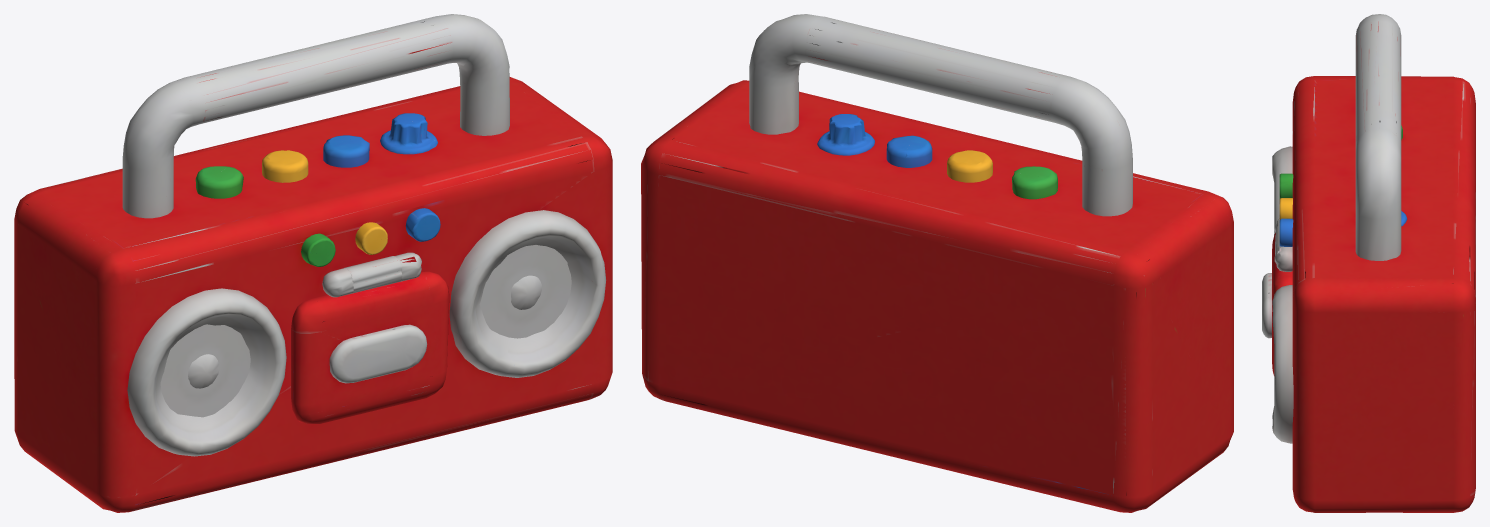
File: dance_boombox.glb
3 views of the same model, side by side, from view 1: azimuth 30°, elevation 25°; view 2: azimuth 150°, elevation 25°; view 3: azimuth 270°, elevation 25° (orthographic). The views are drawn at different scales.
Visible parts, largest first — view 1: geometry_0; view 2: geometry_0; view 3: geometry_0.
Part boxes in pixels (x1,y1,x2,y2): geometry_0: (14,14,612,512); geometry_0: (641,14,1233,512); geometry_0: (1262,14,1475,512).
Bounding box in the file's own units: 0.9575 × 0.6758 × 0.3901.
Materials: 1 (1 with a texture image).
